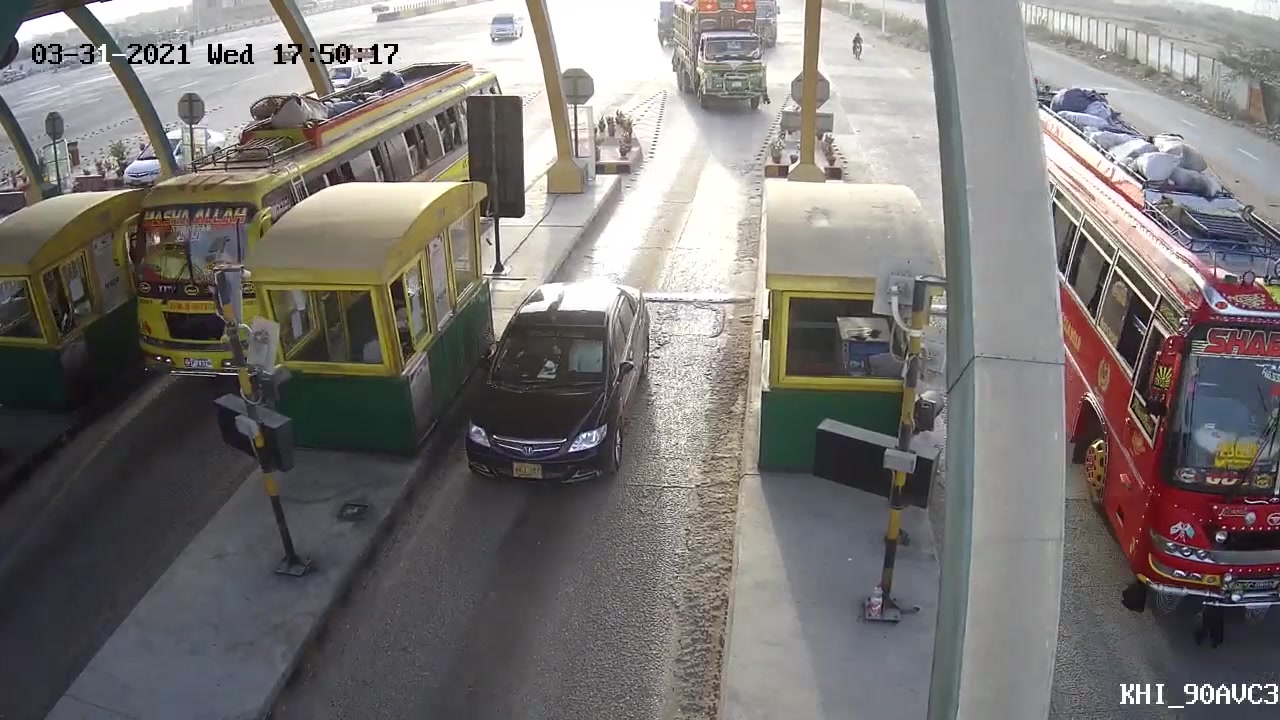F1: (459, 283, 651, 492)
